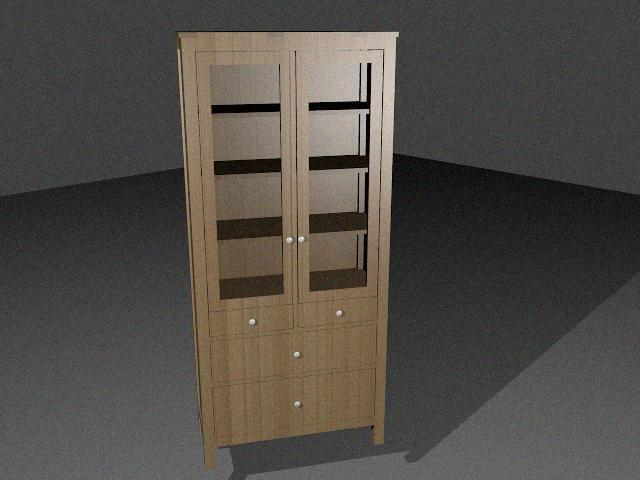cabinet_door: (202, 52, 291, 308), (296, 50, 380, 300), (214, 378, 374, 428), (212, 332, 376, 374), (210, 308, 292, 332), (298, 300, 377, 324)
handle: (290, 351, 303, 364), (296, 234, 308, 247), (292, 400, 304, 413), (333, 309, 344, 321), (244, 316, 254, 329), (286, 235, 296, 248)
